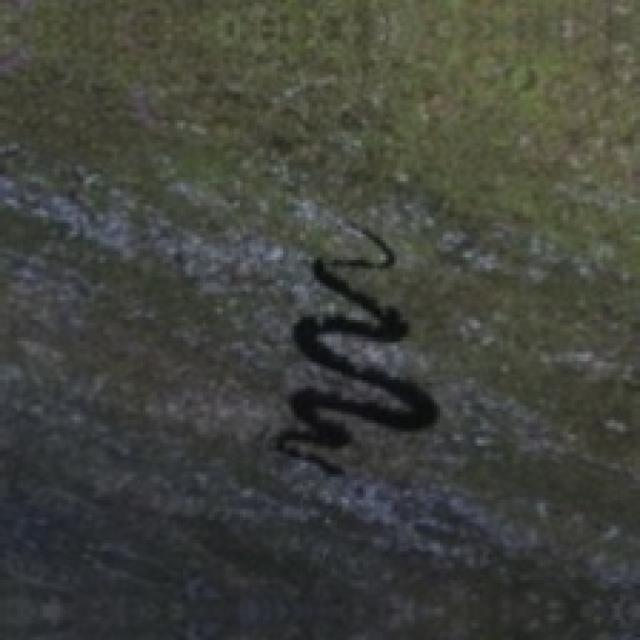king cobra: (277, 223, 437, 471)
